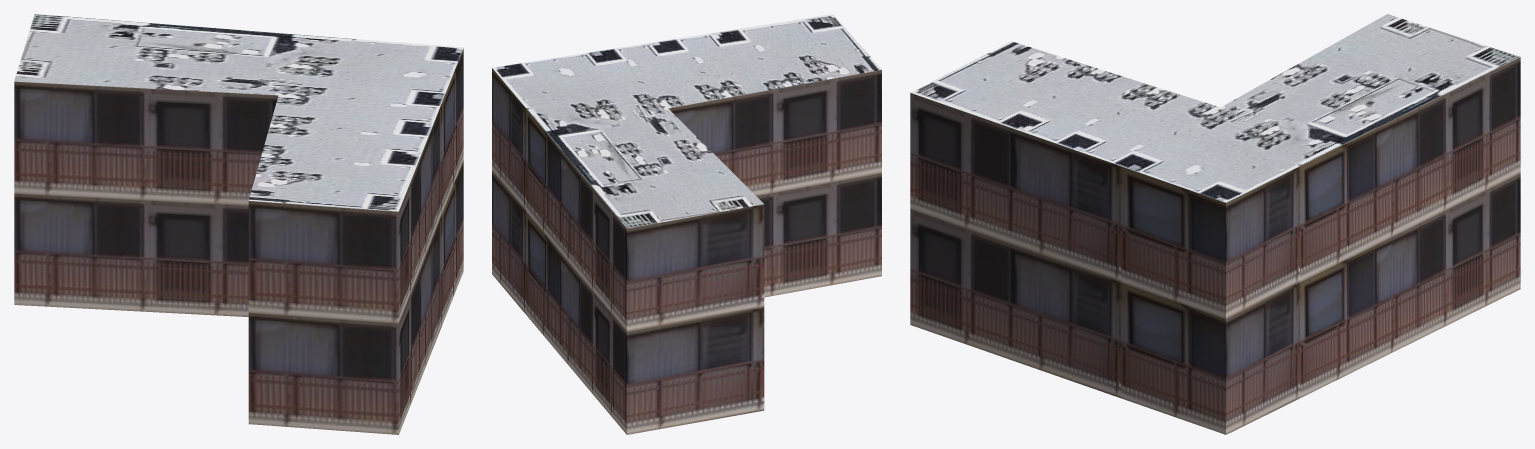
File: ResTex__2721.fbx
3 views of the same model, side by side, from view 1: azimuth 30°, elevation 25°; view 2: azimuth 150°, elevation 25°; view 3: azimuth 270°, elevation 25° (orthographic). The views are drawn at different scales.
Parts seen in each view (by area): view 1: CityEngineMaterial_6_m, CityEngineMaterial_4_m; view 2: CityEngineMaterial_6_m, CityEngineMaterial_4_m; view 3: CityEngineMaterial_6_m, CityEngineMaterial_4_m.
Boxes of the visible parts, x1=… form: CityEngineMaterial_6_m: x1=14, y1=48, x2=463, y2=434; CityEngineMaterial_4_m: x1=14, y1=14, x2=463, y2=211; CityEngineMaterial_6_m: x1=492, y1=68, x2=881, y2=434; CityEngineMaterial_4_m: x1=492, y1=14, x2=881, y2=228; CityEngineMaterial_6_m: x1=910, y1=57, x2=1520, y2=434; CityEngineMaterial_4_m: x1=910, y1=14, x2=1519, y2=202.
Bounding box in the file's own units: 10.46 × 6 × 14.3.
Materials: 2 (2 with a texture image).
